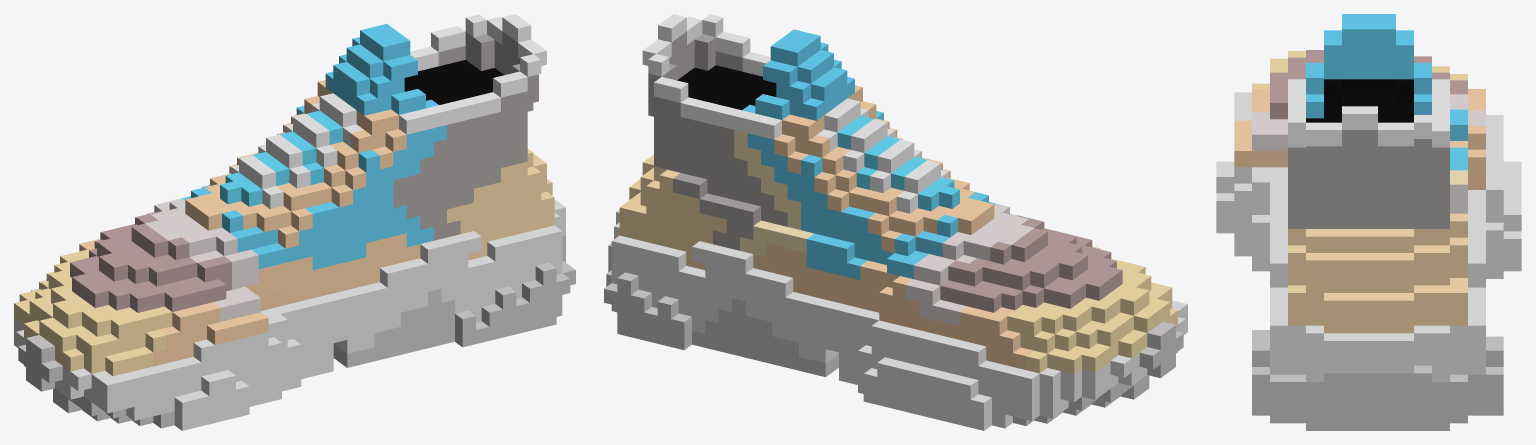
Rendered from Crystal Blue.fbx.
3 views of the same model, side by side, from view 1: azimuth 30°, elevation 25°; view 2: azimuth 150°, elevation 25°; view 3: azimuth 270°, elevation 25° (orthographic). The views are drawn at different scales.
Parts seen in each view (by area): view 1: Untitled; view 2: Untitled; view 3: Untitled.
Part boxes in pixels (left/top/right/bottom): Untitled: left=14, top=14, right=575, bottom=430; Untitled: left=604, top=14, right=1187, bottom=430; Untitled: left=1216, top=14, right=1521, bottom=430.
Bounding box in the file's own units: 390 × 200 × 170.
